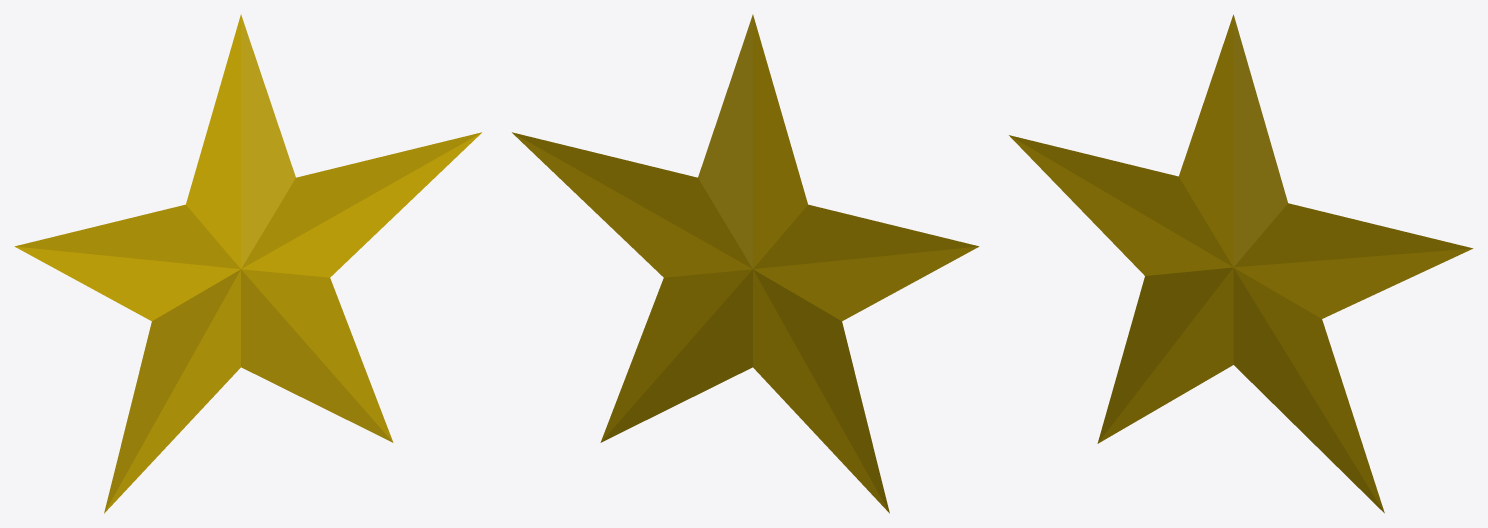
The model's file is rank.fbx.
3 renders of one model, left to right at view 1: azimuth 30°, elevation 25°; view 2: azimuth 150°, elevation 25°; view 3: azimuth 330°, elevation 25°, orthographic.
Parts seen in each view (by area): view 1: rank; view 2: rank; view 3: rank.
Part boxes in pixels (x1,y1,x2,y2): rank: (14, 14, 481, 513); rank: (512, 14, 979, 513); rank: (1009, 14, 1473, 513).
Size of the model in its own units: 64.5 by 61.36 by 0.
Materials: 1 (1 with a texture image).
